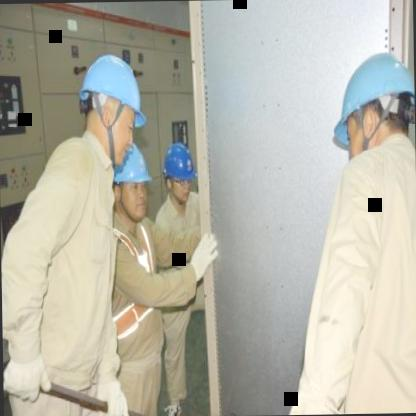helmet: (331, 38, 415, 173), (76, 45, 144, 163), (108, 138, 156, 226), (162, 138, 198, 210)
